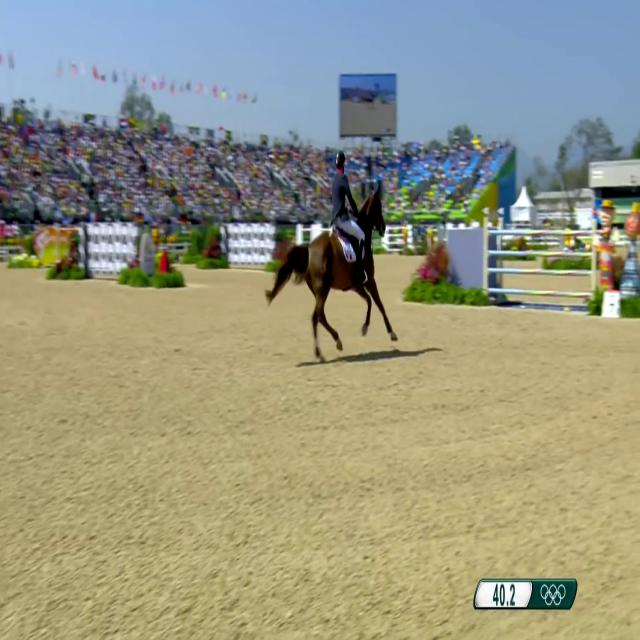Horse Running: (260, 144, 410, 373)
